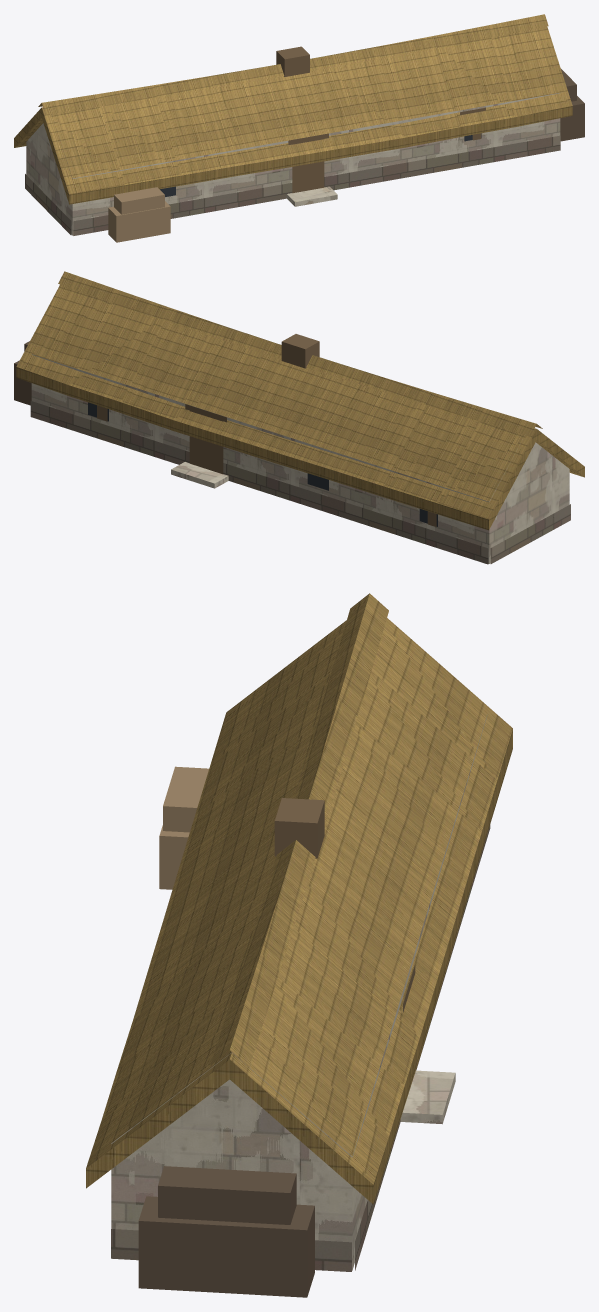
The picture shows the model from 3 angles, top to bottom: view 1: azimuth 30°, elevation 25°; view 2: azimuth 150°, elevation 25°; view 3: azimuth 270°, elevation 25°; orthographic projection. The views are drawn at different scales.
Parts seen in each view (by area): view 1: b001085_thatch, b001085_wall, b001085_base, b001085_wood, b001085_oak, b001085_peat; view 2: b001085_thatch, b001085_wall, b001085_base, b001085_oak, b001085_glass, b001085_peat; view 3: b001085_thatch, b001085_peat, b001085_wall, b001085_wood, b001085_base, b001085_oak.
Boxes of the visible parts, x1,y1,x2,y2 form: b001085_thatch: (14, 14, 572, 204); b001085_wall: (26, 93, 560, 235); b001085_base: (25, 135, 560, 235); b001085_wood: (108, 187, 170, 242); b001085_oak: (276, 46, 485, 193); b001085_peat: (560, 69, 584, 141); b001085_thatch: (16, 271, 584, 530); b001085_wall: (31, 354, 569, 563); b001085_base: (30, 401, 570, 564); b001085_oak: (97, 334, 436, 526); b001085_glass: (88, 402, 437, 526); b001085_peat: (14, 341, 31, 405); b001085_thatch: (86, 593, 512, 1204); b001085_peat: (138, 1166, 314, 1297); b001085_wall: (111, 714, 487, 1270); b001085_wood: (159, 766, 208, 889); b001085_base: (111, 825, 490, 1271); b001085_oak: (274, 798, 415, 1012).
Bounding box in the file's own units: 14.83 × 3.27 × 5.45.
Materials: 7 (3 with a texture image).
